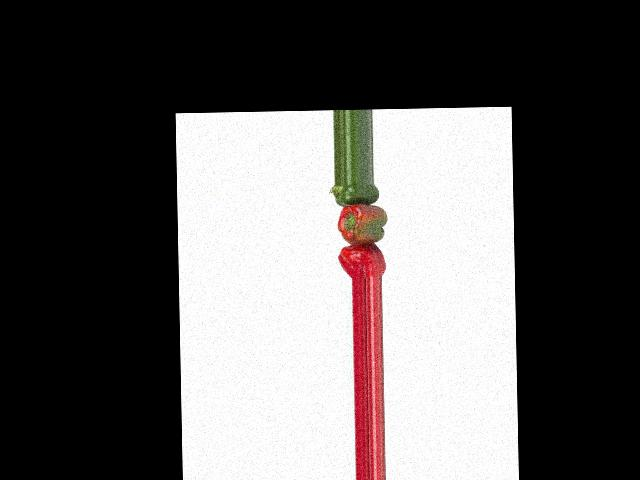bell_pepper: (333, 242, 388, 278)
